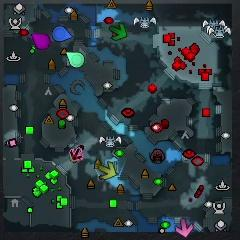p1: (52, 25, 72, 42)
p2: (65, 51, 85, 68)
p3: (32, 32, 51, 52)
x1: (176, 218, 194, 237)
x1Clone: (69, 147, 83, 162)
x2: (97, 161, 116, 182)
x4: (108, 23, 128, 41)
